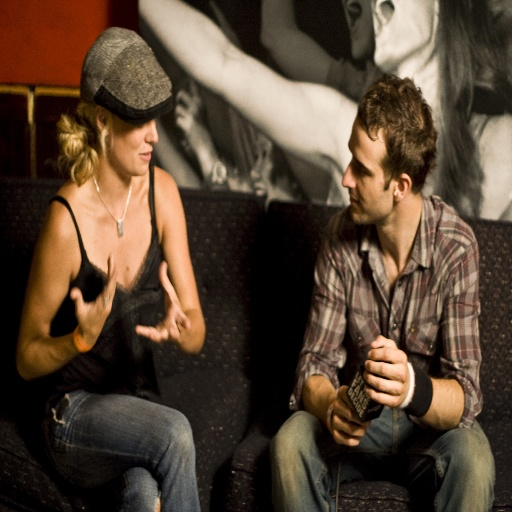hand: (353, 343, 437, 417), (136, 258, 191, 344), (70, 254, 117, 340), (174, 73, 213, 152), (331, 385, 373, 448)
